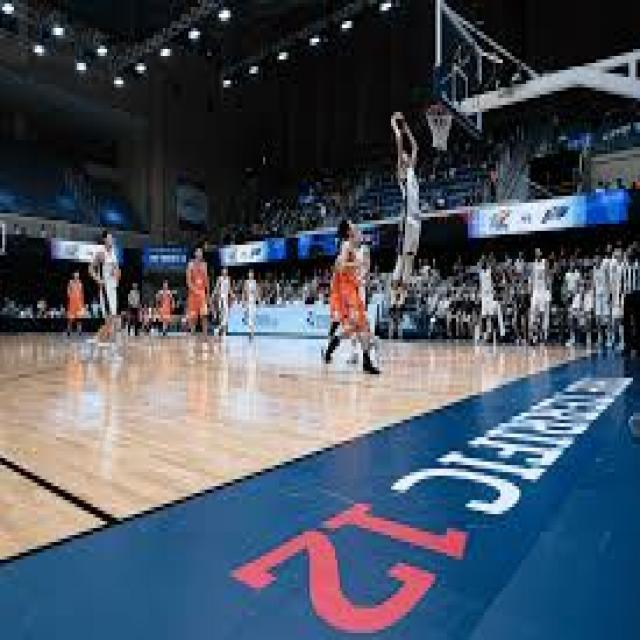rim: (393, 109, 405, 132)
